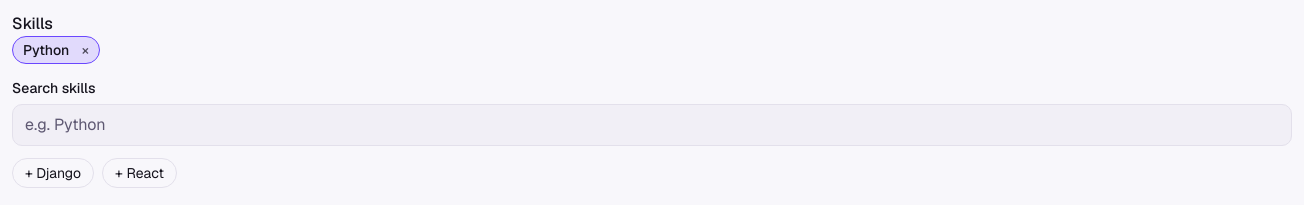
Test: search shows only matching skills that aren't picked yet
Type "dja" into the search field labelled "Search skills" at [652, 125], box [12,104,1292,146]
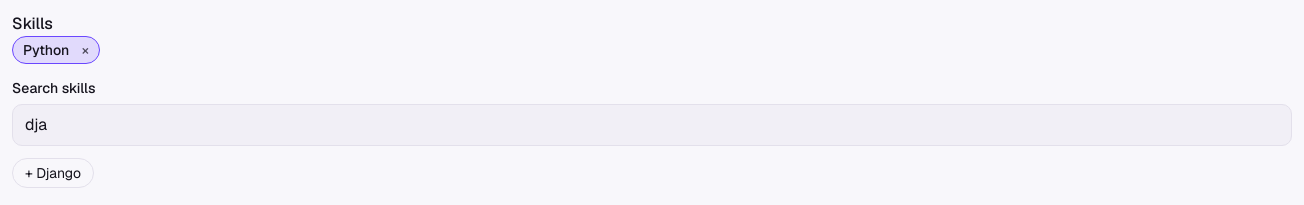
Expected: the button "+ Django" is shown, [12,158,94,188]
Expected: the button "+ React" is gone
